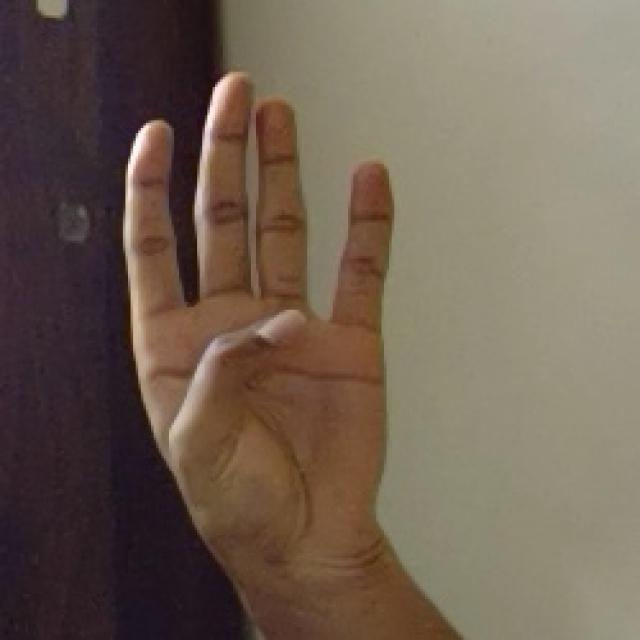Numeric-4: (122, 63, 387, 564)
